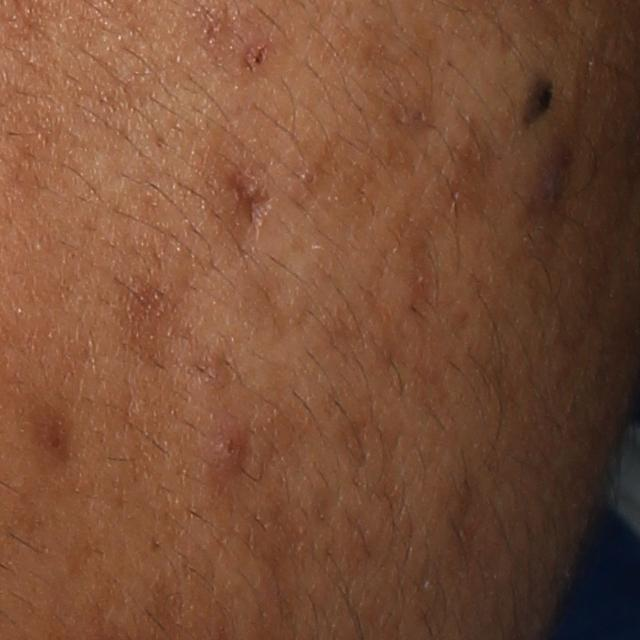atrophic_scar: (223, 175, 270, 243)
nevus: (519, 64, 559, 126)
papule: (198, 422, 253, 470)
